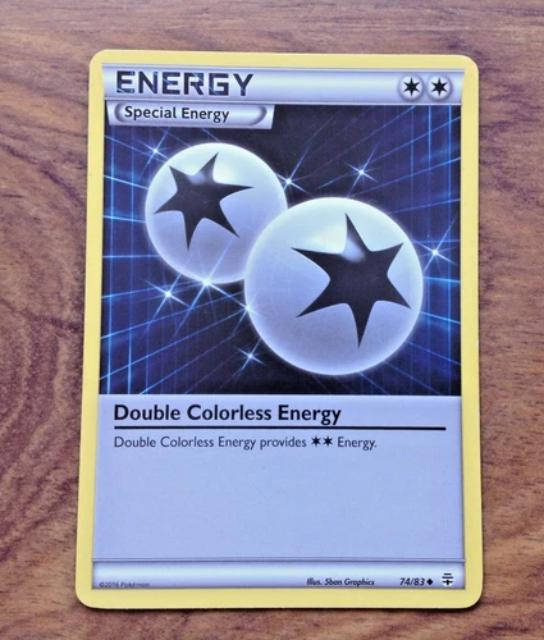Card: (69, 43, 492, 615)
Name: (107, 393, 355, 435)
